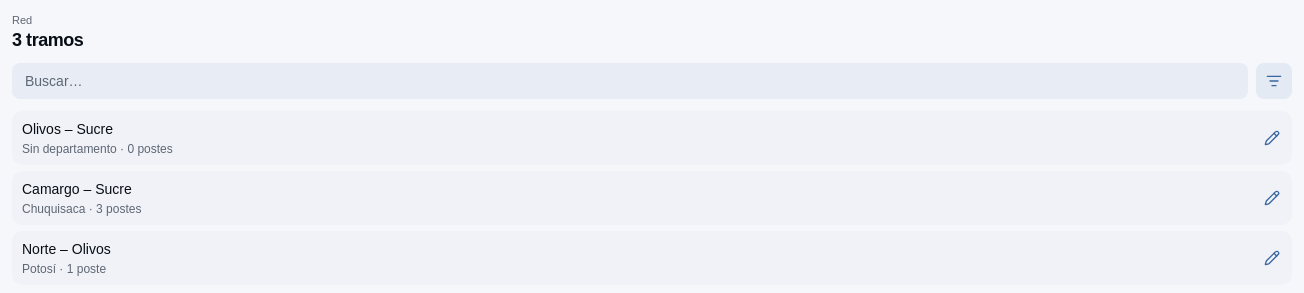
Test: the list › lists tramos and nothing else, filtered by the search box whatever the case
This screenshot has width=1304, height=293.
expect the heading "3 tramos" is shown: met, box x1=12 y1=28 x2=83 y2=51
In the field named "Buscar por nombre": (630, 81) x1=12 y1=63 x2=1248 y2=99, type "SUCRE"
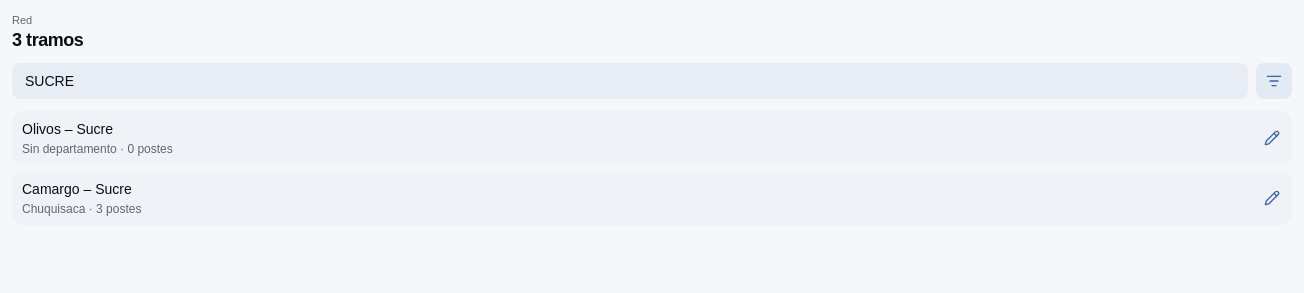
expect the button "Olivos – Sucre Sin departamento · 0 postes" is shown: met, box x1=12 y1=111 x2=1252 y2=165
expect the button "Norte – Olivos" is gone: met
